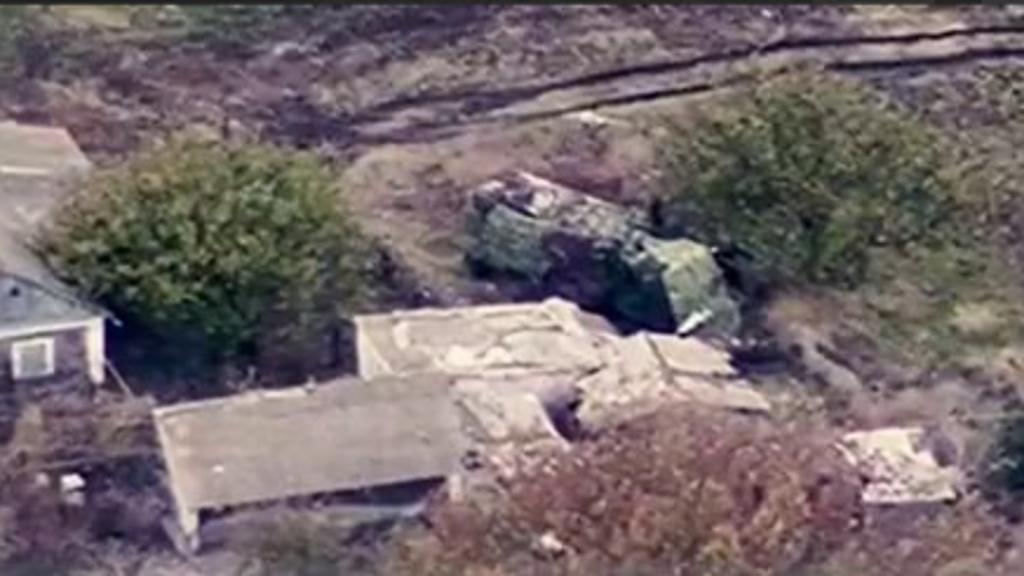TRUCK: (462, 159, 732, 341)
